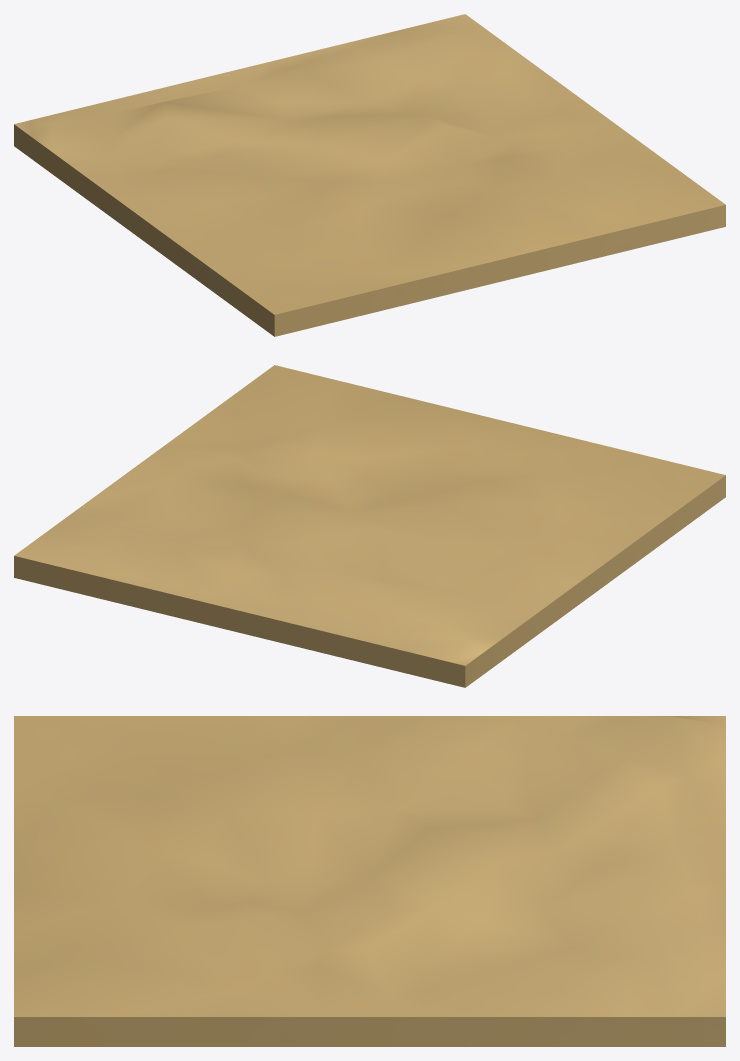
Rendered from ground_2.dae.
The picture shows the model from 3 angles, top to bottom: view 1: azimuth 30°, elevation 25°; view 2: azimuth 150°, elevation 25°; view 3: azimuth 270°, elevation 25°; orthographic projection. The views are drawn at different scales.
Parts seen in each view (by area): view 1: ground_2; view 2: ground_2; view 3: ground_2.
Boxes of the visible parts, box(x1,y1,x2,y2) form: ground_2: box(14, 14, 725, 336); ground_2: box(14, 365, 725, 687); ground_2: box(14, 716, 725, 1046).
Size of the model in its own units: 2 by 2 by 0.1481.
